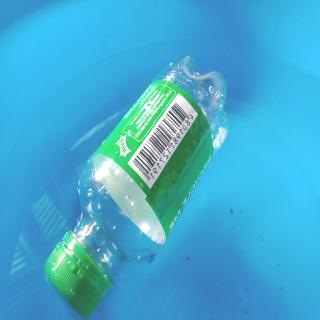bottle: (44, 52, 233, 320)
